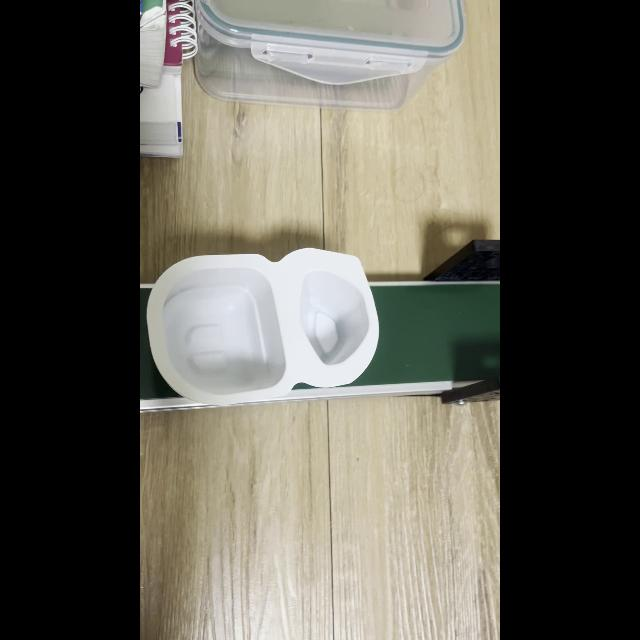clean: (146, 249, 378, 403)
